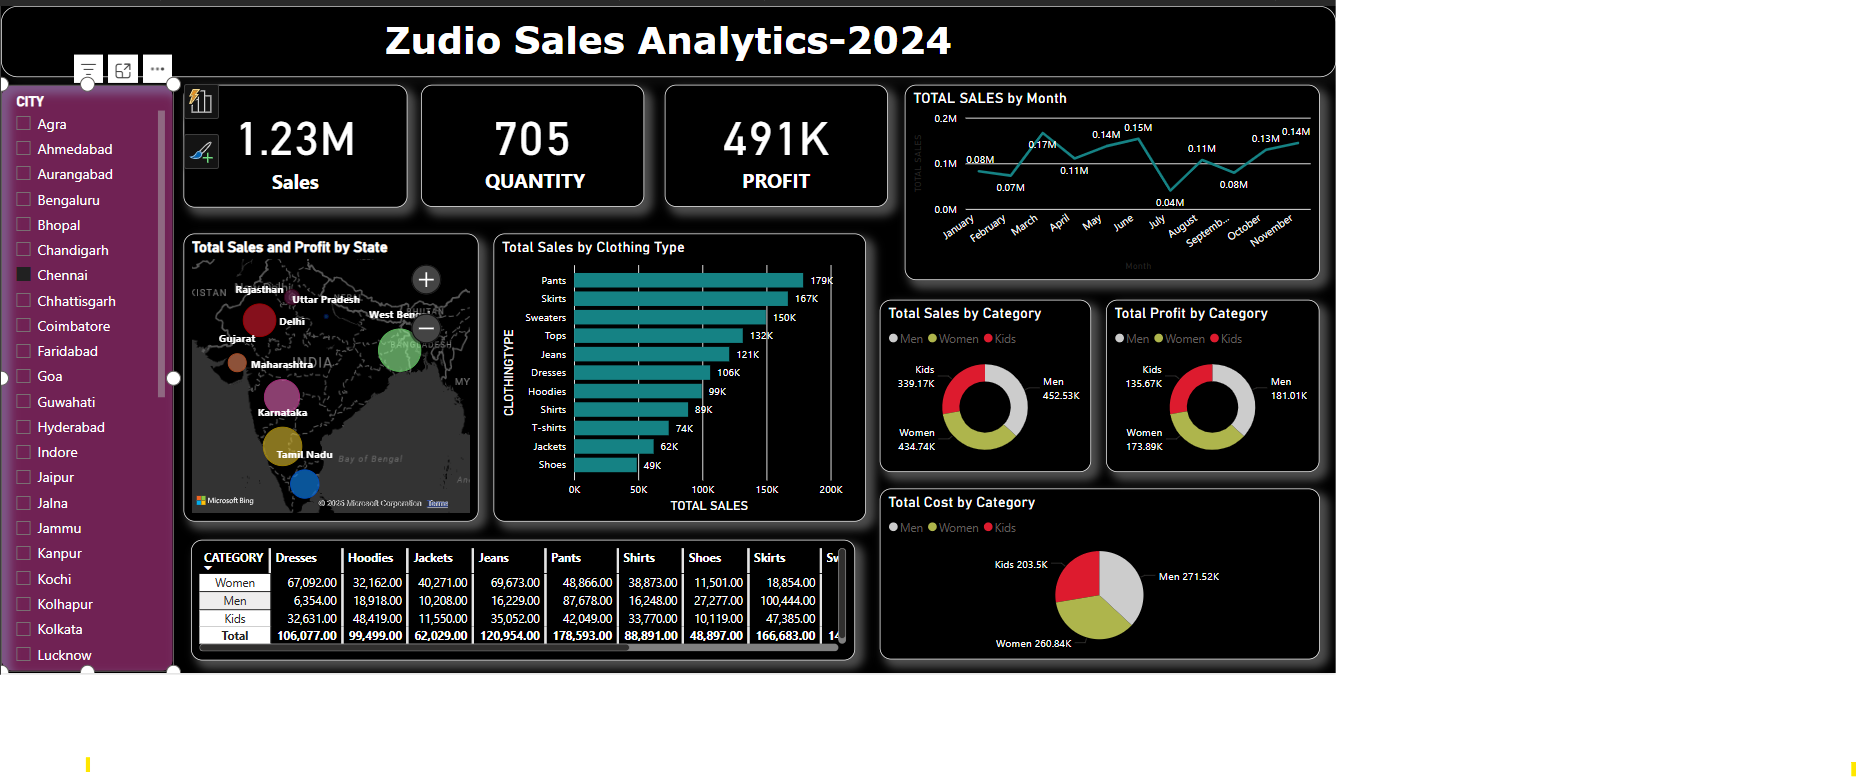

What the dashboard file says about the page in this screenshot:
{"tool":"powerbi","page":{"name":"Page 1","canvas":[1531,765],"ordinal":0},"visuals":[{"type":"textbox","box":[0,0,1531,81.7],"z":0},{"type":"slicer","fields":{"Values":["ZUDIO_STORE.CITY"]},"box":[0,91,197.4,673],"z":1000},{"type":"card","fields":{"Values":["ZUDIO_STORE.TOTAL SALES"]},"box":[209.3,90.3,256.6,140.5],"z":2000},{"type":"card","fields":{"Values":["Sum(ZUDIO_STORE.QUANTITY)"]},"box":[482,91,256,140],"z":3000},{"type":"card","fields":{"Values":["Sum(ZUDIO_STORE.SALESPROFIT)"]},"box":[761.4,91,256,140],"z":4000},{"type":"lineChart","fields":{"Y":["ZUDIO_STORE.TOTAL SALES"],"Category":["ZUDIO_STORE.ORDERDATE.Variation.Date Hierarchy.Quarter","ZUDIO_STORE.ORDERDATE.Variation.Date Hierarchy.Month","ZUDIO_STORE.ORDERDATE.Variation.Date Hierarchy.Day"]},"box":[1036.4,90.3,475.9,223.6],"z":5000},{"type":"barChart","title":"Total Sales by Clothing Type","fields":{"Category":["ZUDIO_STORE.CLOTHINGTYPE"],"Y":["ZUDIO_STORE.TOTAL SALES"]},"box":[565.3,260.2,426.9,330.7],"z":6000},{"type":"pivotTable","fields":{"Rows":["ZUDIO_STORE.CATEGORY"],"Columns":["ZUDIO_STORE.CLOTHINGTYPE"],"Values":["ZUDIO_STORE.TOTAL SALES"]},"box":[217.9,611.4,761.4,138.4],"z":7000},{"type":"donutChart","title":"Total Sales by Category","fields":{"Category":["ZUDIO_STORE.CATEGORY"],"Y":["ZUDIO_STORE.TOTAL SALES"]},"box":[1007.8,336.9,242.3,197.8],"z":8000},{"type":"map","title":"Total Sales and Profit by State","fields":{"Category":["ZUDIO_STORE.STATE"],"Size":["ZUDIO_STORE.TOTAL SALES"]},"box":[208.9,260.2,338.4,330.7],"z":9000},{"type":"pieChart","title":" Total Cost by Category","fields":{"Category":["ZUDIO_STORE.CATEGORY"],"Y":["Sum(ZUDIO_STORE.TOTALCOST)"]},"box":[1007.8,553.3,504.6,196.4],"z":10000},{"type":"donutChart","title":"Total Profit  by Category","fields":{"Category":["ZUDIO_STORE.CATEGORY"],"Y":["Sum(ZUDIO_STORE.SALESPROFIT)"]},"box":[1267.2,336.9,245.1,197.8],"z":11000}]}

Visuals, with their boxes on the page's 1531x765 design canvas (x1, y1, x2, y2). These are canvas units, not pixel positions in the 1856x777 screenshot, which may show the page scaled, cropped or inside an application window:
textbox: (0, 0, 1531, 82)
slicer - ZUDIO_STORE.CITY: (0, 91, 197, 764)
card - ZUDIO_STORE.TOTAL SALES: (209, 90, 466, 231)
card - Sum(ZUDIO_STORE.QUANTITY): (482, 91, 738, 231)
card - Sum(ZUDIO_STORE.SALESPROFIT): (761, 91, 1017, 231)
lineChart - ZUDIO_STORE.TOTAL SALES x ZUDIO_STORE.ORDERDATE.Variation.Date Hierarchy.Quarter: (1036, 90, 1512, 314)
"Total Sales by Clothing Type" barChart: (565, 260, 992, 591)
pivotTable - ZUDIO_STORE.CATEGORY x ZUDIO_STORE.CLOTHINGTYPE: (218, 611, 979, 750)
"Total Sales by Category" donutChart: (1008, 337, 1250, 535)
"Total Sales and Profit by State" map: (209, 260, 547, 591)
" Total Cost by Category" pieChart: (1008, 553, 1512, 750)
"Total Profit  by Category" donutChart: (1267, 337, 1512, 535)
